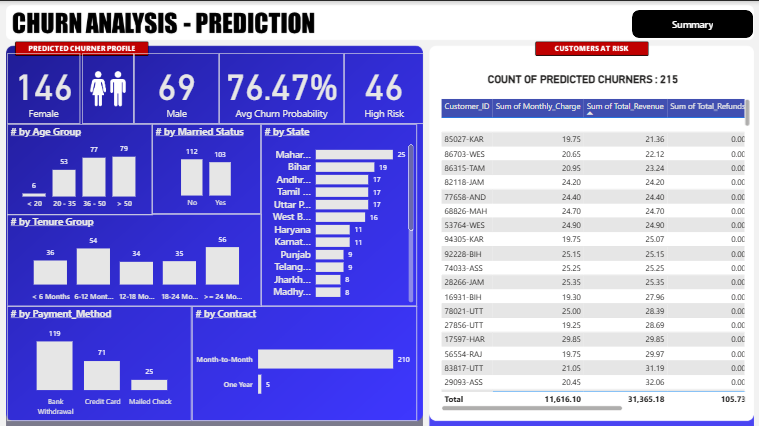

Layout of this report page (visuals, bound fields, positions):
{"tool":"powerbi","page":{"name":"Churn Prediction","canvas":[1280,720],"ordinal":2},"visuals":[{"type":"tableEx","fields":{"Values":["Predictions.Customer_ID","Sum(Predictions.Monthly_Charge)","Sum(Predictions.Total_Revenue)","Sum(Predictions.Total_Refunds)","Sum(Predictions.Number_of_Referrals)","tbl_Measures.Count Predicted Churner"]},"box":[737.4,159.6,529.1,534.2],"z":0},{"type":"card","fields":{"Values":["tbl_Measures.Title Predicted Churner"]},"box":[791.2,102.5,379.6,57.1],"z":1000},{"type":"card","fields":{"Values":["tbl_Measures.Count Predicted Churner"]},"box":[297.3,87.3,142.8,119.3],"z":2000},{"type":"card","fields":{"Values":["tbl_Measures.Count Predicted Churner"]},"box":[13.4,87.3,156.2,119.3],"z":3000},{"type":"clusteredColumnChart","fields":{"Category":["mapping_AgeGrp.Age Group"],"Y":["CountNonNull(Predictions.Customer_ID)"]},"box":[13.4,206.6,243.6,152.9],"z":4000},{"type":"clusteredColumnChart","fields":{"Category":["Predictions.Married"],"Y":["CountNonNull(Predictions.Customer_ID)"]},"box":[257,206.6,183.1,151.2],"z":5000},{"type":"clusteredColumnChart","fields":{"Y":["CountNonNull(Predictions.Customer_ID)"],"Category":["mapping_TenureGrp.Tenure Group"]},"box":[13.4,357.8,426.7,154.5],"z":6000},{"type":"clusteredColumnChart","fields":{"Y":["CountNonNull(Predictions.Customer_ID)"],"Category":["Predictions.Payment_Method"]},"box":[14.2,512.4,310.2,193.2],"z":7000},{"type":"clusteredBarChart","fields":{"Category":["Predictions.Contract"],"Y":["CountNonNull(Predictions.Customer_ID)"]},"box":[324.2,512.3,378,193.2],"z":8000},{"type":"clusteredBarChart","fields":{"Y":["CountNonNull(Predictions.Customer_ID)"],"Category":["Predictions.State"]},"box":[440.1,97.4,262,414.9],"z":9000},{"type":"image","box":[169.7,87.3,127.7,119.3],"z":9001},{"type":"shape","box":[1063,15.1,203.5,47.1],"z":9002}]}

Visuals, with their boxes in screenshot pixels (x1, y1, x2, y2), scaled from the page's 1280x720 canvas onto the 759x426 screenshot:
tableEx - Predictions.Customer_ID x Sum(Predictions.Monthly_Charge): (left=437, top=94, right=751, bottom=410)
card - tbl_Measures.Title Predicted Churner: (left=469, top=61, right=694, bottom=94)
card - tbl_Measures.Count Predicted Churner: (left=176, top=52, right=261, bottom=122)
card - tbl_Measures.Count Predicted Churner: (left=8, top=52, right=101, bottom=122)
clusteredColumnChart - mapping_AgeGrp.Age Group x CountNonNull(Predictions.Customer_ID): (left=8, top=122, right=152, bottom=213)
clusteredColumnChart - Predictions.Married x CountNonNull(Predictions.Customer_ID): (left=152, top=122, right=261, bottom=212)
clusteredColumnChart - CountNonNull(Predictions.Customer_ID) x mapping_TenureGrp.Tenure Group: (left=8, top=212, right=261, bottom=303)
clusteredColumnChart - CountNonNull(Predictions.Customer_ID) x Predictions.Payment_Method: (left=8, top=303, right=192, bottom=417)
clusteredBarChart - Predictions.Contract x CountNonNull(Predictions.Customer_ID): (left=192, top=303, right=416, bottom=417)
clusteredBarChart - CountNonNull(Predictions.Customer_ID) x Predictions.State: (left=261, top=58, right=416, bottom=303)
image: (left=101, top=52, right=176, bottom=122)
shape: (left=630, top=9, right=751, bottom=37)
